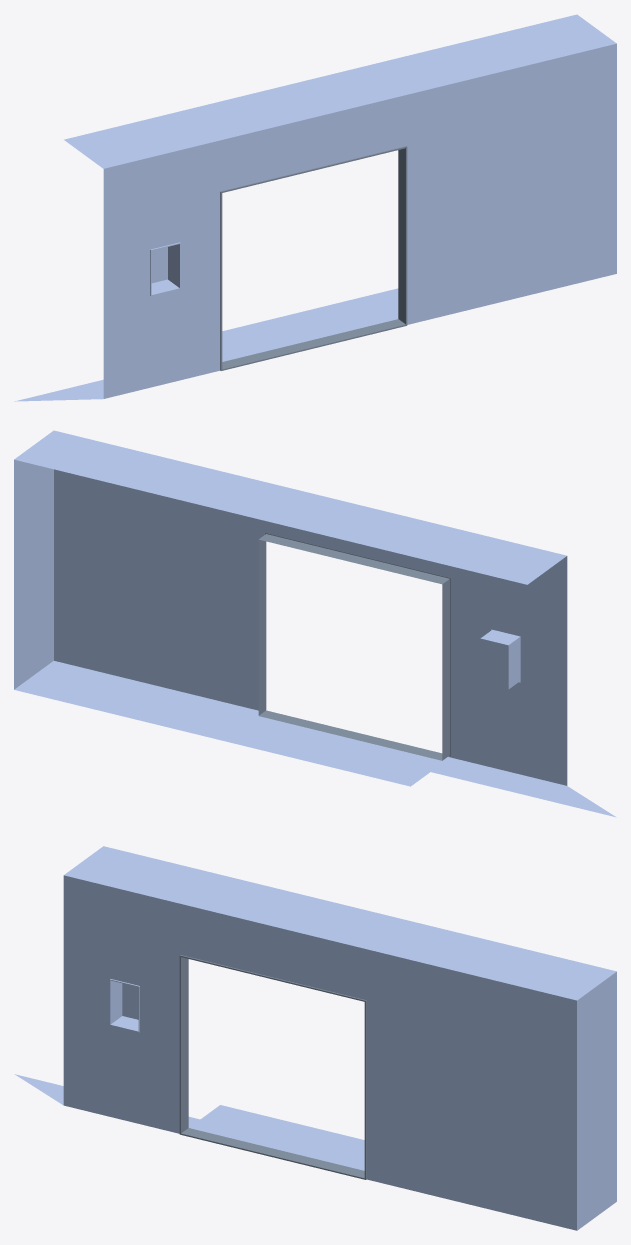
Rendered from BackWall6.fbx.
The picture shows the model from 3 angles, top to bottom: view 1: azimuth 30°, elevation 25°; view 2: azimuth 150°, elevation 25°; view 3: azimuth 330°, elevation 25°; orthographic projection.
Parts seen in each view (by area): view 1: Back_Wall_6; view 2: Back_Wall_6; view 3: Back_Wall_6.
Boxes of the visible parts, x1,y1,x2,y2 form: Back_Wall_6: (14, 14, 616, 401); Back_Wall_6: (14, 430, 616, 817); Back_Wall_6: (14, 846, 616, 1230).
Size of the model in its own units: 676 by 255 by 81.55.
Materials: 1 (1 with a texture image).
